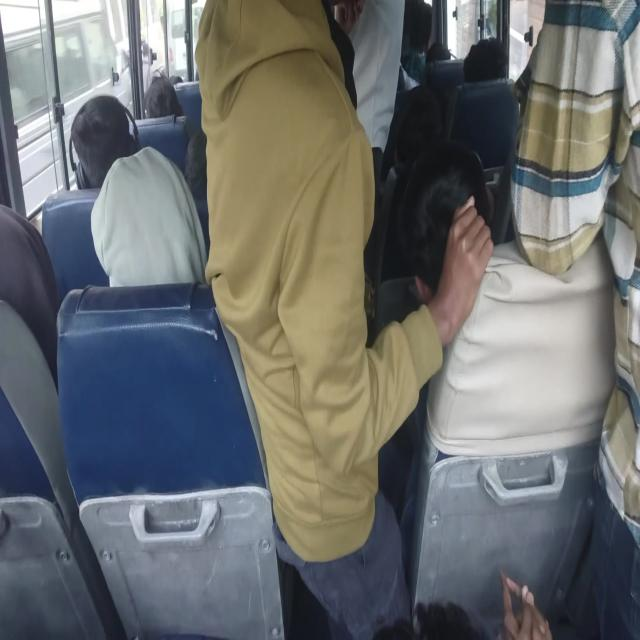person: (509, 0, 638, 546), (76, 96, 210, 286), (198, 0, 339, 121), (390, 141, 491, 303), (0, 202, 61, 396), (446, 76, 520, 176), (393, 84, 444, 171), (88, 102, 140, 169), (462, 36, 508, 84), (424, 56, 470, 98), (143, 74, 184, 121), (424, 42, 454, 66), (169, 75, 184, 86)
